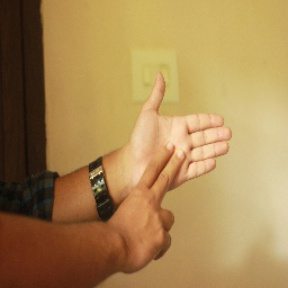N: (105, 73, 236, 267)
